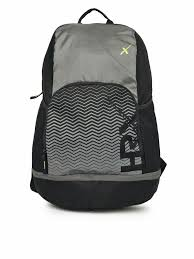backpack: (29, 7, 167, 210)
